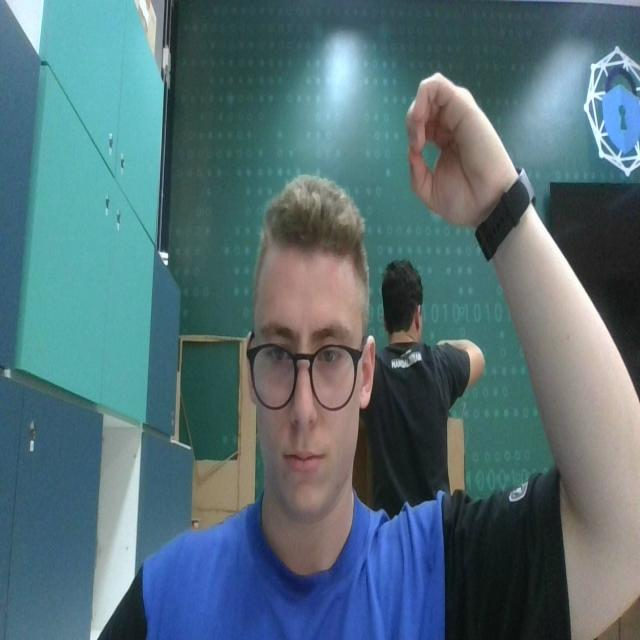O: (403, 68, 509, 224)
